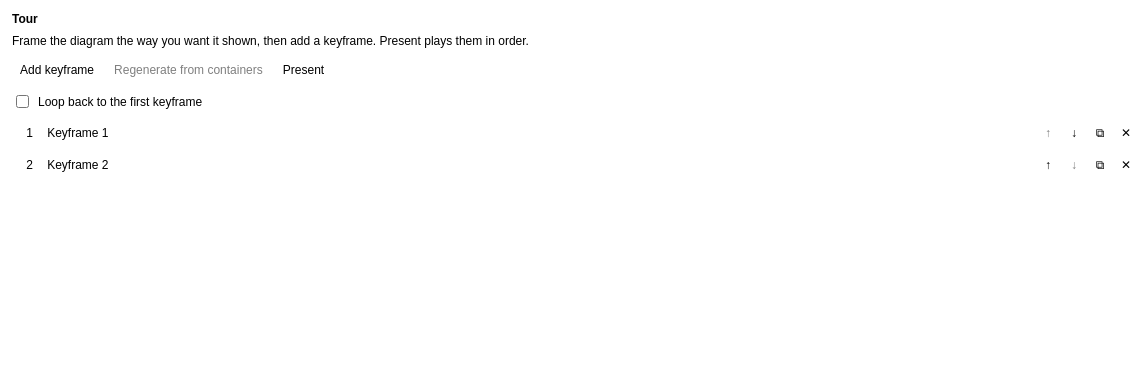
Test: a keyframe’s fields › a Cut has no travel time to set
Click the button with class "tour-row-main" showing "2 Keyframe 2": (78, 165) left=14, top=154, right=1032, bottom=176
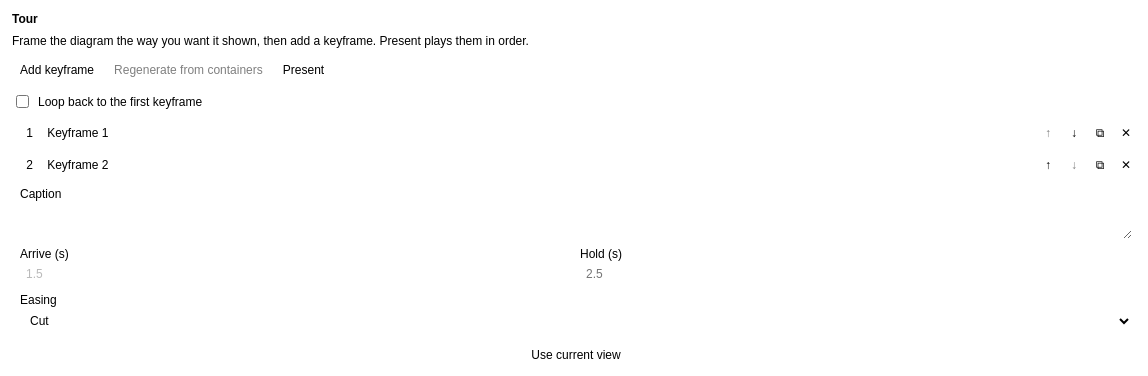
Now the field labelled "Arrive (s)" is disabled, box left=20, top=263, right=572, bottom=285
